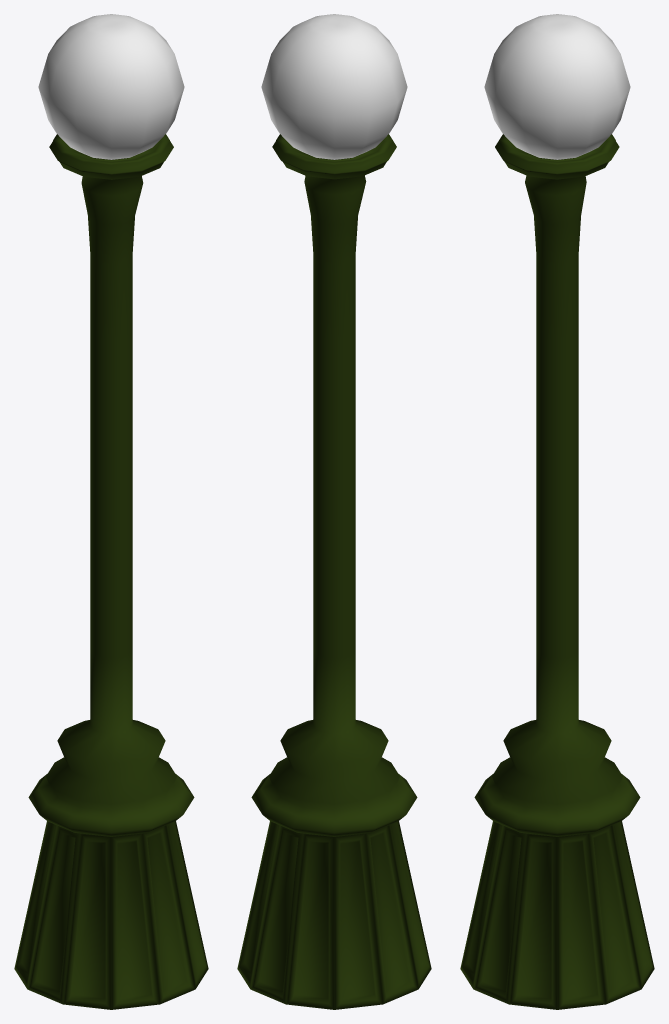
File: lampara01.fbx
3 views of the same model, side by side, from view 1: azimuth 30°, elevation 25°; view 2: azimuth 150°, elevation 25°; view 3: azimuth 270°, elevation 25° (orthographic).
Parts seen in each view (by area): view 1: lampara; view 2: lampara; view 3: lampara.
Part boxes in pixels (bbox=[...]): lampara: bbox=[14, 14, 208, 1009]; lampara: bbox=[237, 14, 431, 1009]; lampara: bbox=[460, 14, 654, 1009].
Bounding box in the file's own units: 200 × 1074 × 200.
